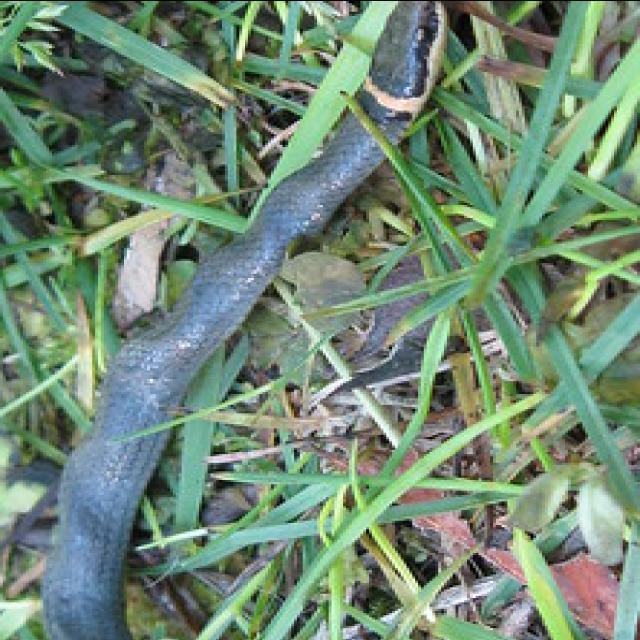Snake: (0, 0, 634, 640), (34, 0, 456, 640)
